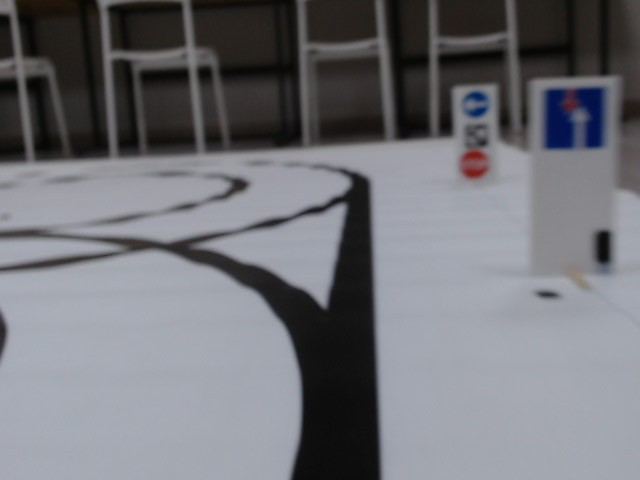Stop: (461, 151, 487, 177)
priority_movement: (540, 88, 607, 148)
